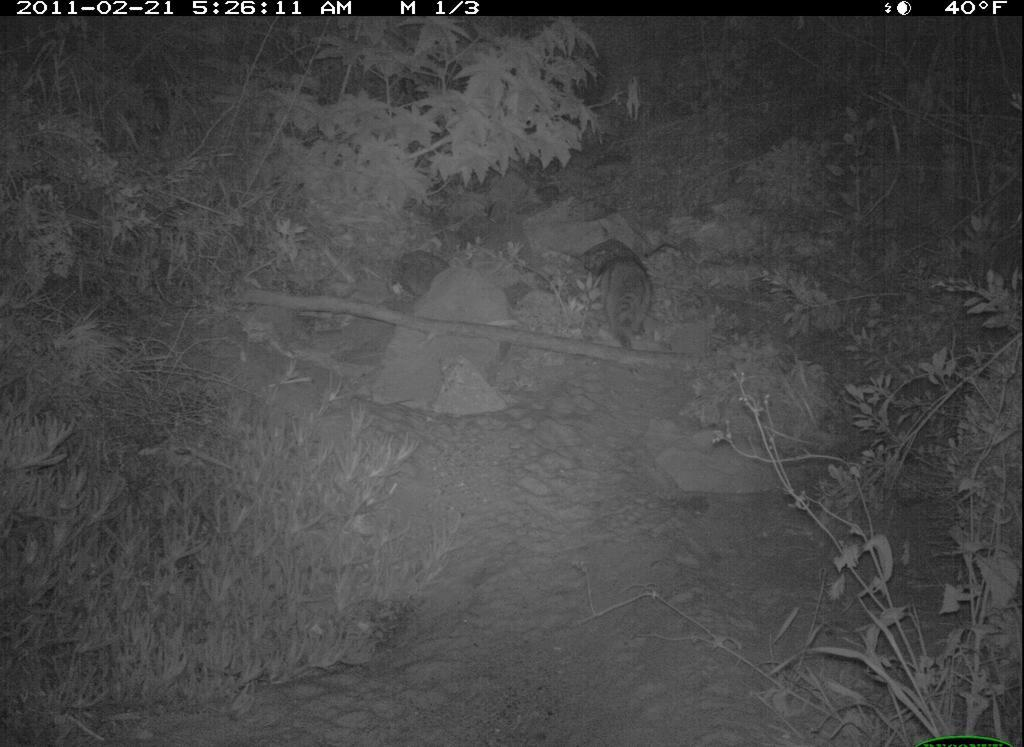raccoon: (585, 232, 660, 356)
